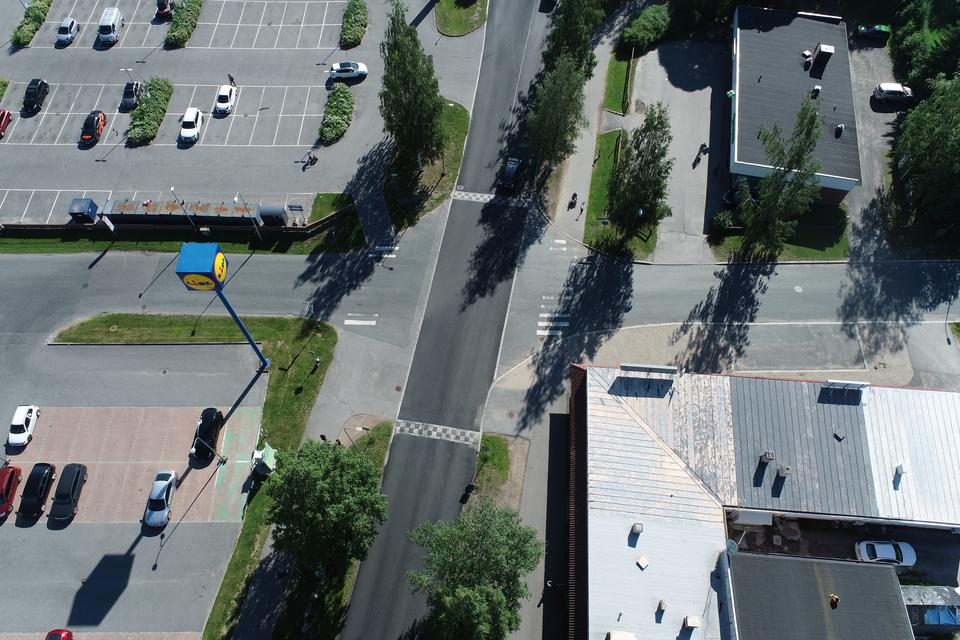intersection: (253, 205, 470, 371), (494, 201, 699, 367)
